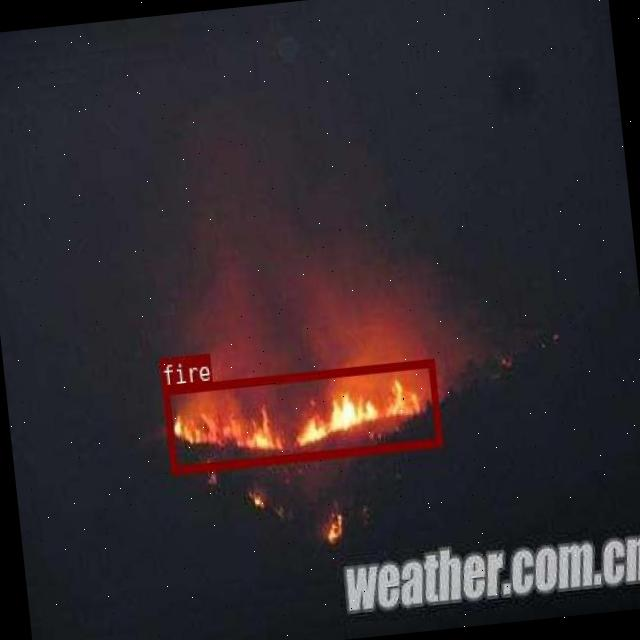fire: (161, 358, 441, 472)
